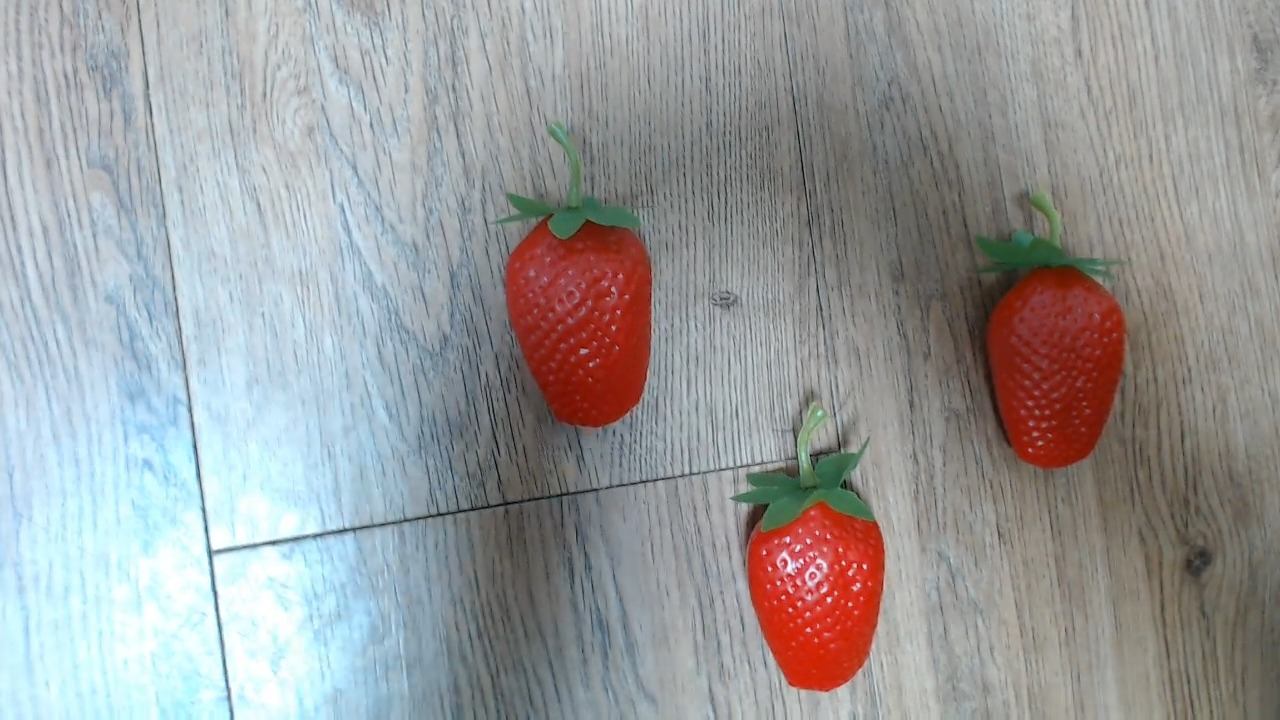strawberry: (730, 459, 894, 702), (496, 199, 659, 434), (970, 241, 1125, 477)
